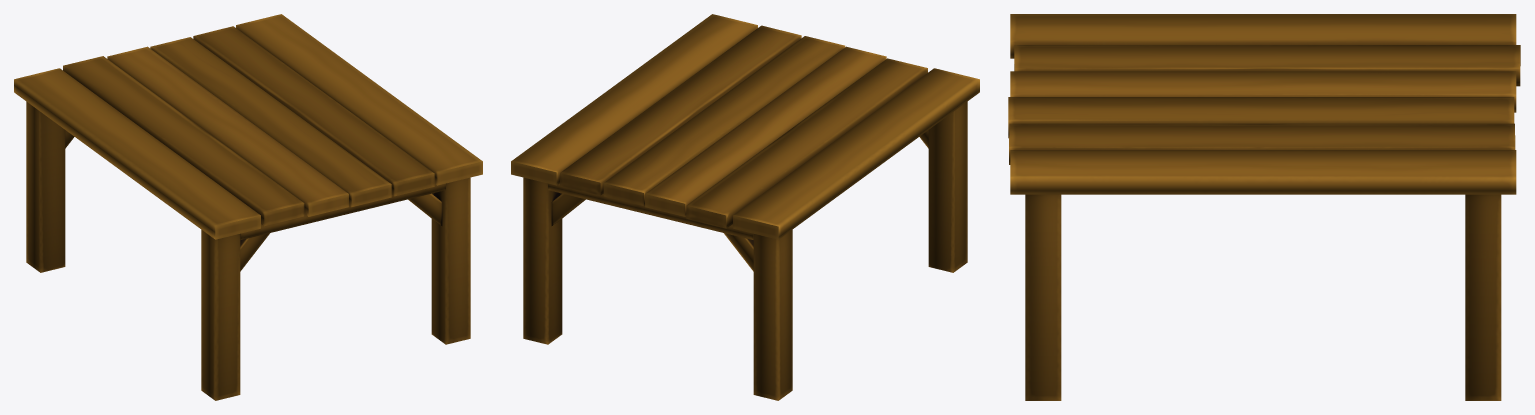
Rendered from Table_Wood.fbx.
3 views of the same model, side by side, from view 1: azimuth 30°, elevation 25°; view 2: azimuth 150°, elevation 25°; view 3: azimuth 270°, elevation 25° (orthographic). The views are drawn at different scales.
Parts seen in each view (by area): view 1: U_Table_Wood; view 2: U_Table_Wood; view 3: U_Table_Wood.
Part boxes in pixels (x1=…): U_Table_Wood: x1=14, y1=14, x2=482, y2=400; U_Table_Wood: x1=511, y1=14, x2=979, y2=400; U_Table_Wood: x1=1008, y1=14, x2=1520, y2=400.
Size of the model in its own units: 139 by 89.43 by 183.
1 material, 1 textured.
